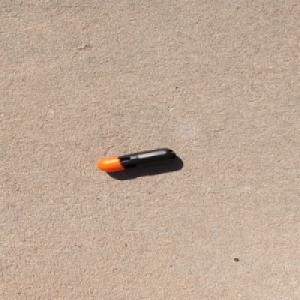PlasticPart: (96, 147, 177, 172)
